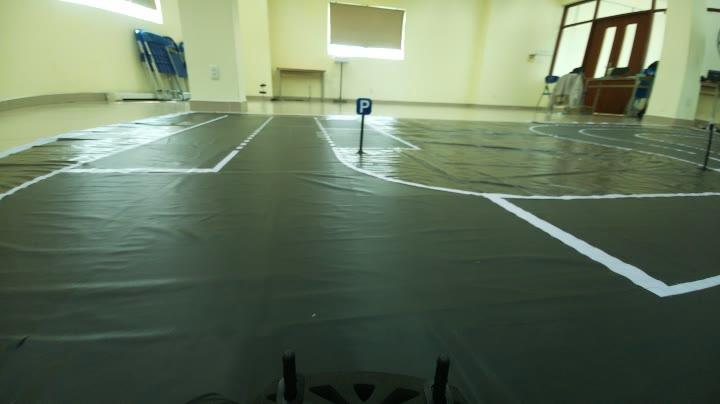parking: (350, 94, 376, 121)
